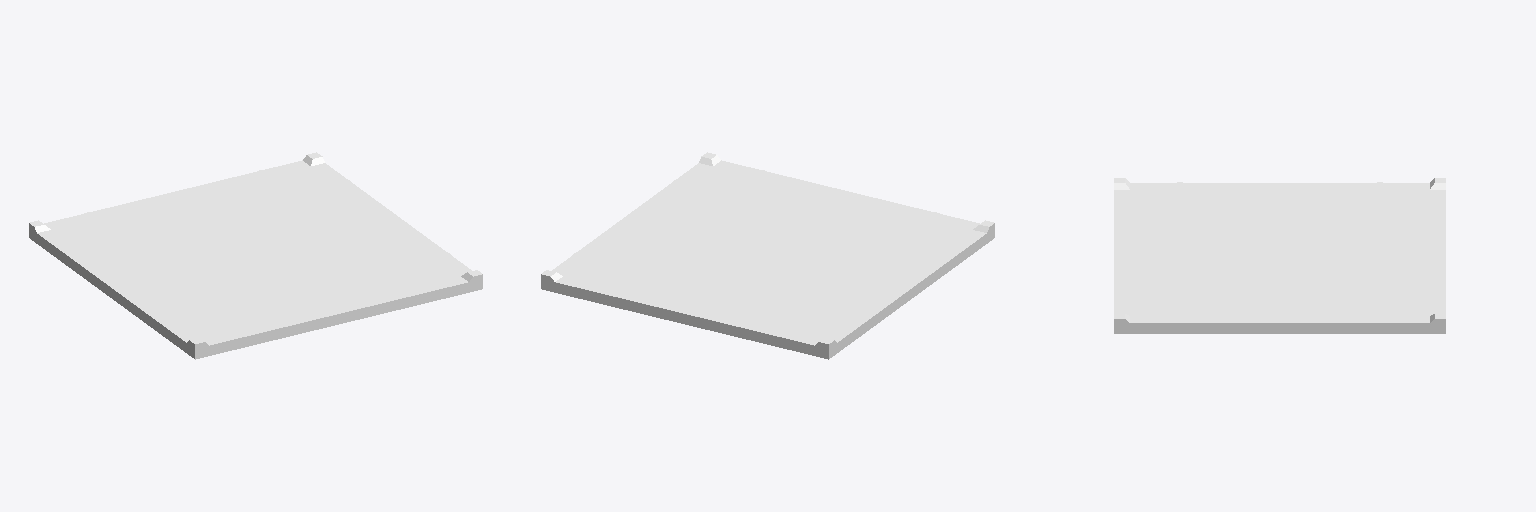
Rendered from junction.obj.
3 renders of one model, left to right at view 1: azimuth 30°, elevation 25°; view 2: azimuth 150°, elevation 25°; view 3: azimuth 270°, elevation 25°, orthographic.
Parts seen in each view (by area): view 1: road_junction; view 2: road_junction; view 3: road_junction.
Part boxes in pixels (x1,y1,x2,y2): road_junction: (29, 152, 482, 359); road_junction: (541, 152, 994, 359); road_junction: (1114, 178, 1445, 333).
Size of the model in its own units: 2 by 0.1 by 2.